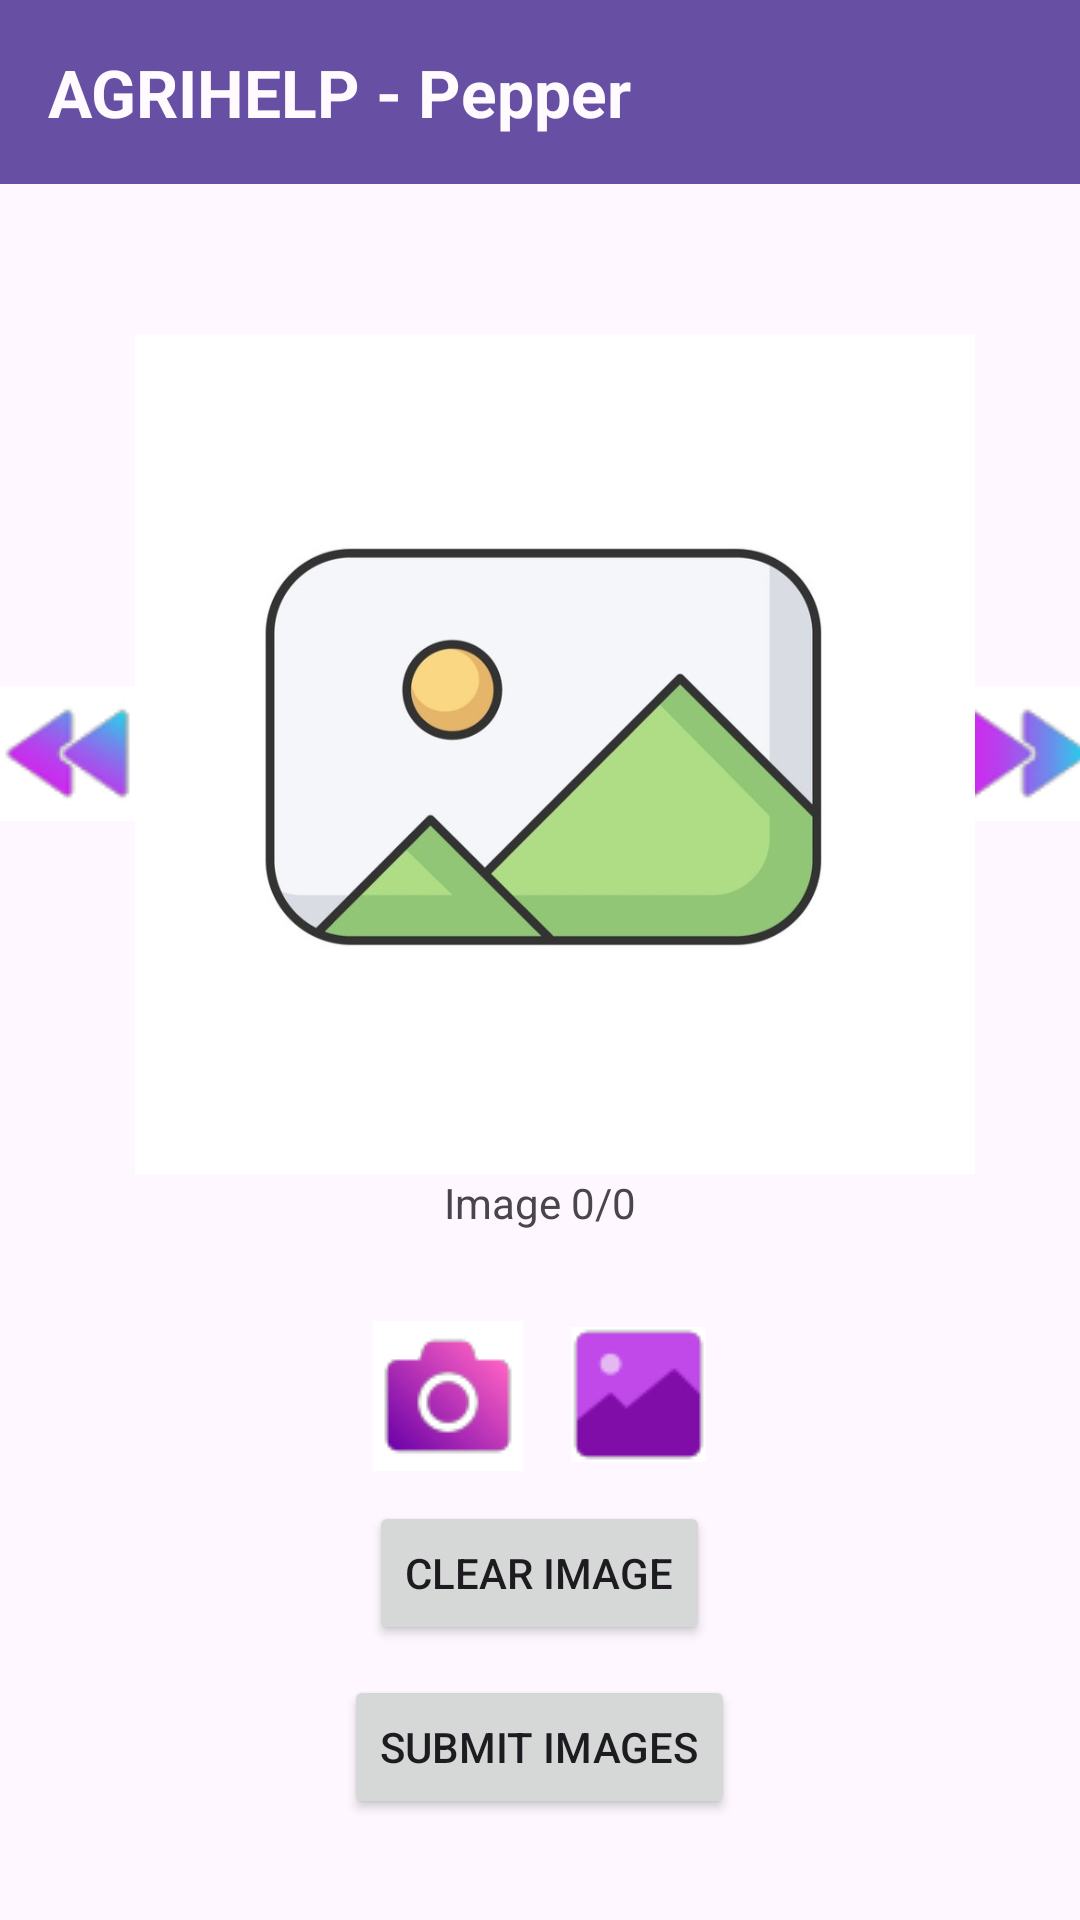

Screen size 1080×1920. Icon name, then its box in pixels as (x1, y1, x2, y2):
camera: (384, 1339, 512, 1453)
gallery: (574, 1330, 703, 1459)
next: (975, 709, 1080, 798)
prev: (6, 709, 130, 798)
